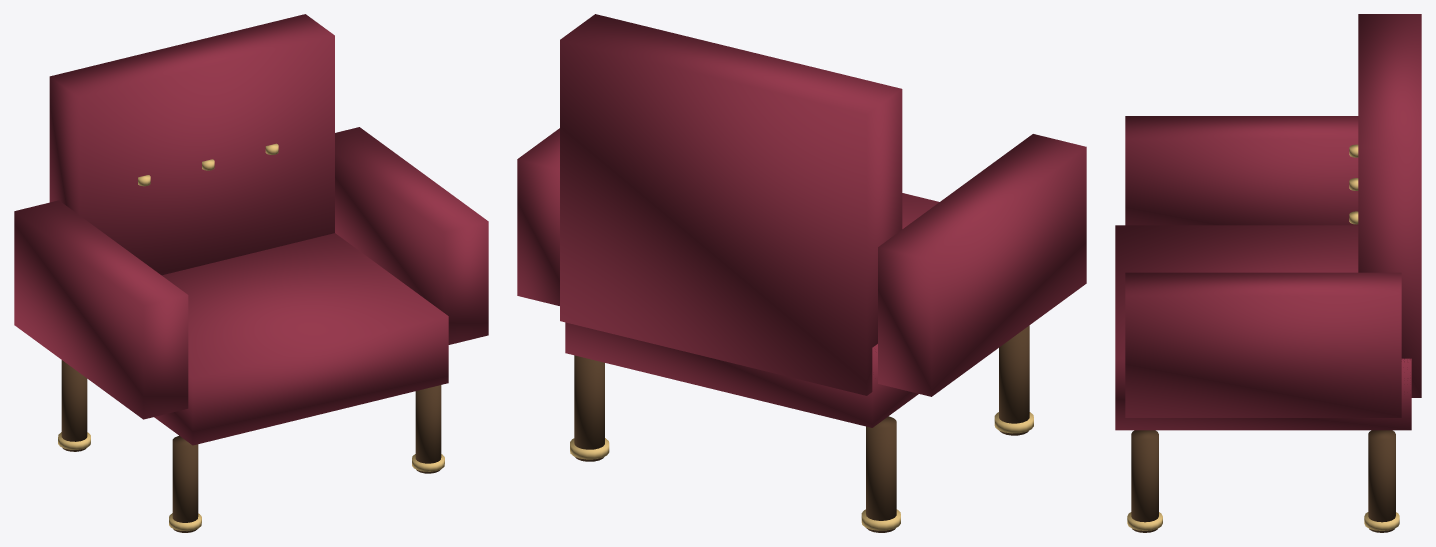
Rendered from armchair.glb.
3 views of the same model, side by side, from view 1: azimuth 30°, elevation 25°; view 2: azimuth 150°, elevation 25°; view 3: azimuth 270°, elevation 25° (orthographic). The views are drawn at different scales.
Parts seen in each view (by area): view 1: back, seat, arm-1, arm1, leg-1-1, leg1-1, leg-11; view 2: back, arm-1, seat, arm1, leg-11, leg11, leg-1-1; view 3: arm1, arm-1, back, seat, leg11, leg1-1, cap11, cap1-1.
Part boxes in pixels (x1,y1,x2,y2): back: (49, 14, 334, 275); seat: (154, 233, 448, 445); arm-1: (14, 200, 188, 419); arm1: (335, 127, 488, 344); leg-1-1: (172, 435, 198, 532); leg1-1: (415, 385, 441, 473); leg-11: (61, 360, 87, 451); back: (560, 14, 902, 395); arm-1: (878, 134, 1086, 396); seat: (565, 193, 939, 427); arm1: (517, 128, 559, 305); leg-11: (866, 416, 896, 532); leg11: (574, 355, 604, 461); leg-1-1: (999, 325, 1029, 435); arm1: (1125, 272, 1401, 417); arm-1: (1125, 116, 1358, 225); back: (1358, 14, 1421, 397); seat: (1115, 225, 1411, 430); leg11: (1368, 430, 1395, 532); leg1-1: (1131, 430, 1158, 532); cap11: (1364, 512, 1399, 530); cap1-1: (1127, 512, 1162, 530).
Size of what is drawn, in the model's own units: 1.08 by 1.07 by 0.775.
